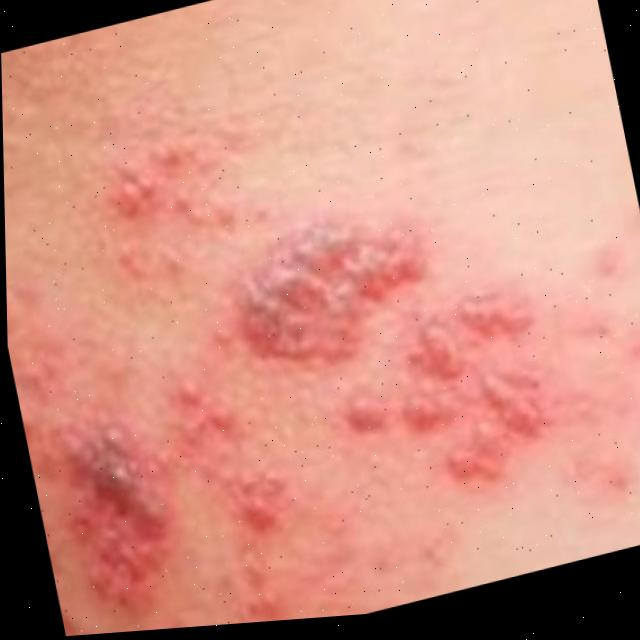Shingles: (1, 19, 640, 640)
